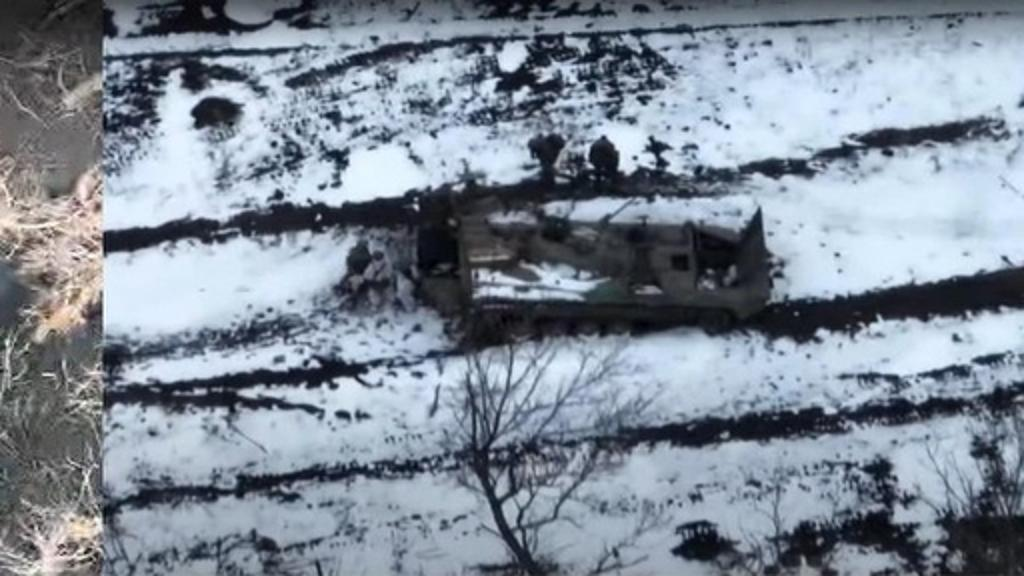APC-IFV: (430, 200, 780, 344)
